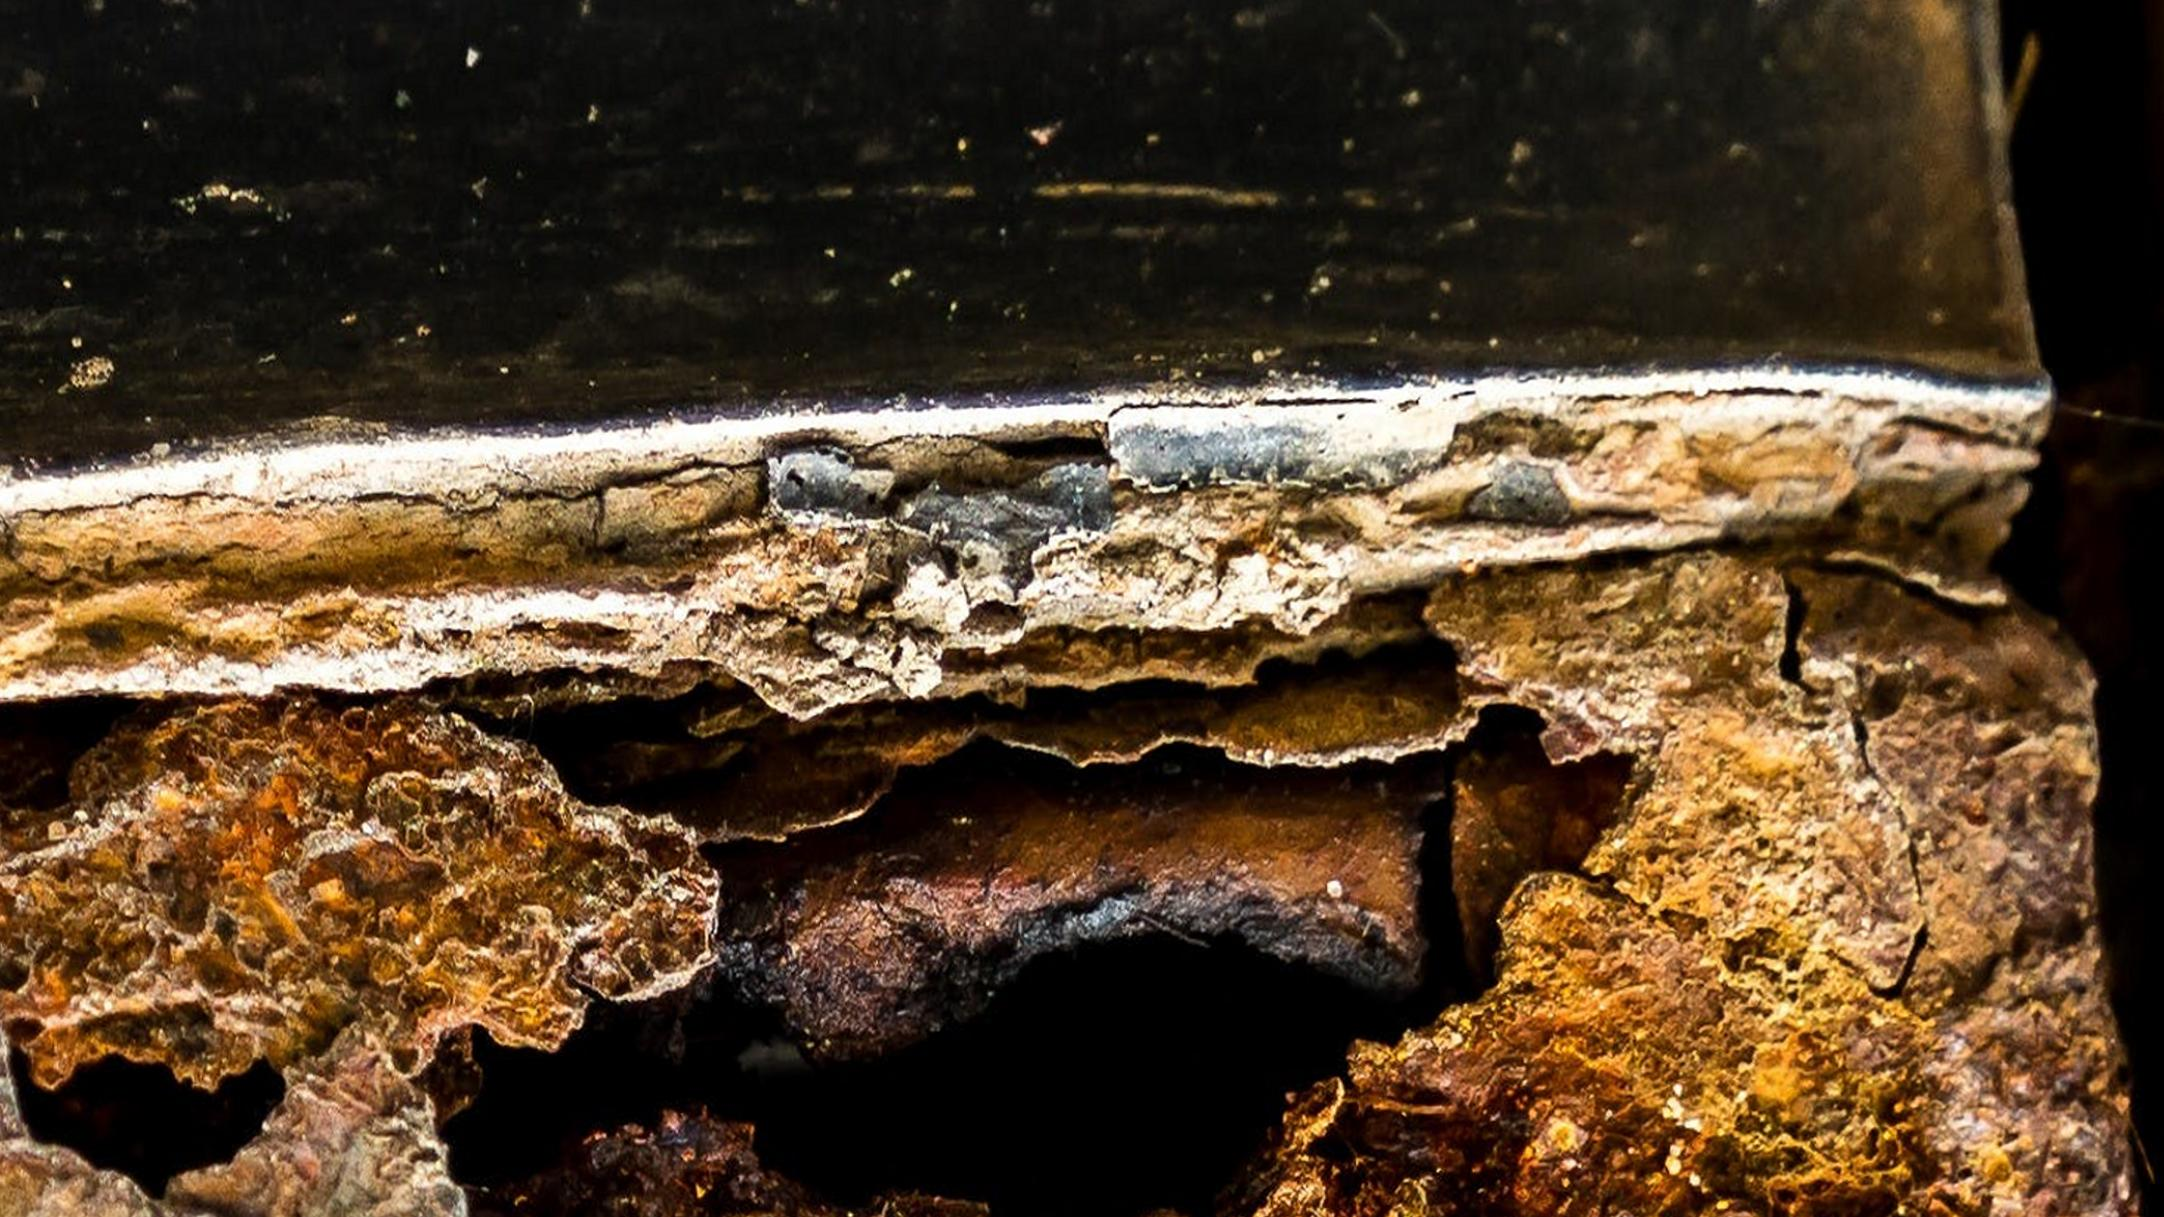rust: (1464, 603, 2102, 1195), (1, 747, 702, 1089), (797, 730, 1454, 1010), (16, 510, 699, 704)
